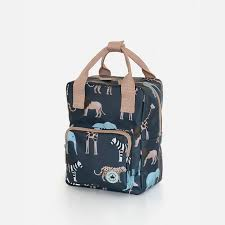backpack: (63, 39, 163, 195)
